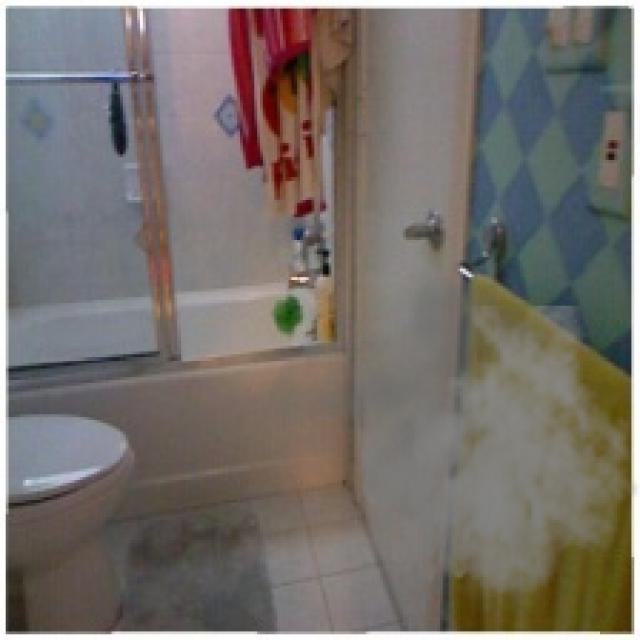Smoke: (260, 263, 637, 623)
